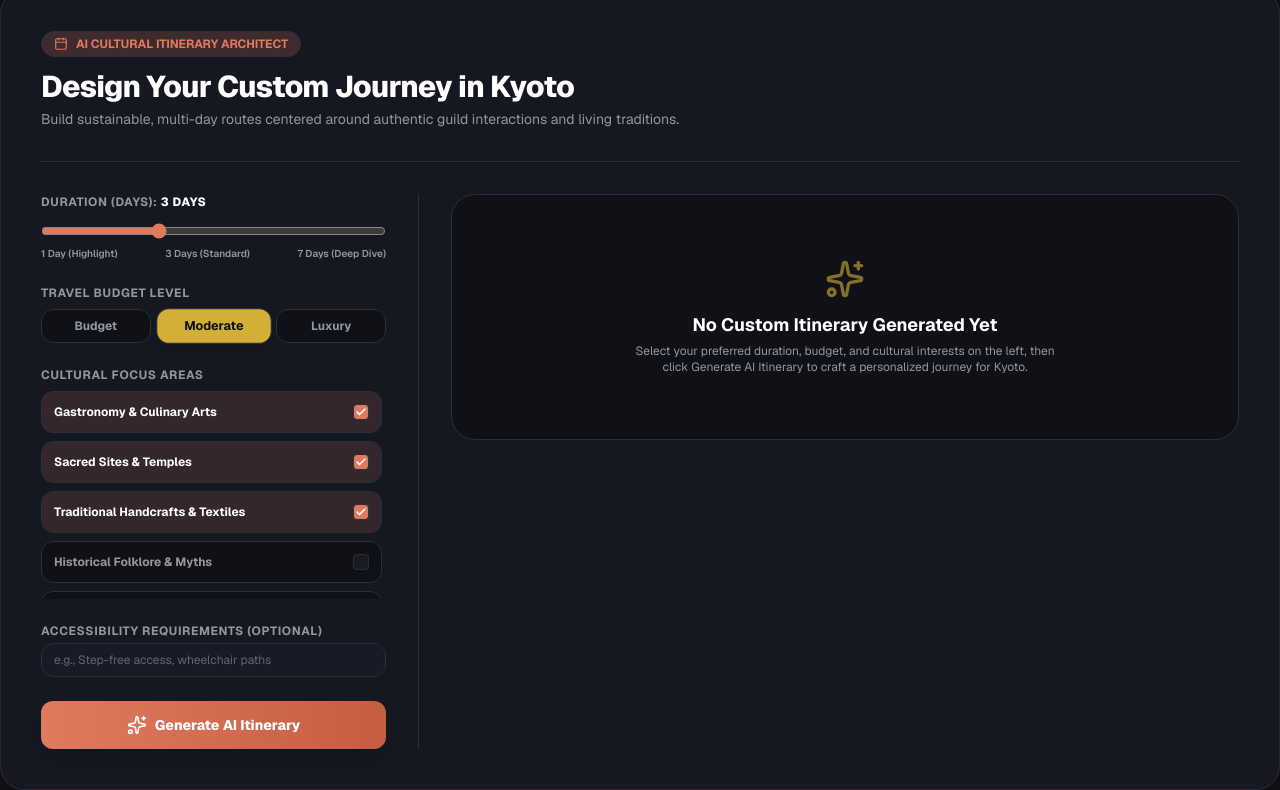
Scenario: ItineraryBuilder – Itinerary Display (mocked API) › renders day 1 and day 2 schedule
Click the button "Generate AI Itinerary" at (214, 725), box 41,701 -> 386,749
(page scrolled)
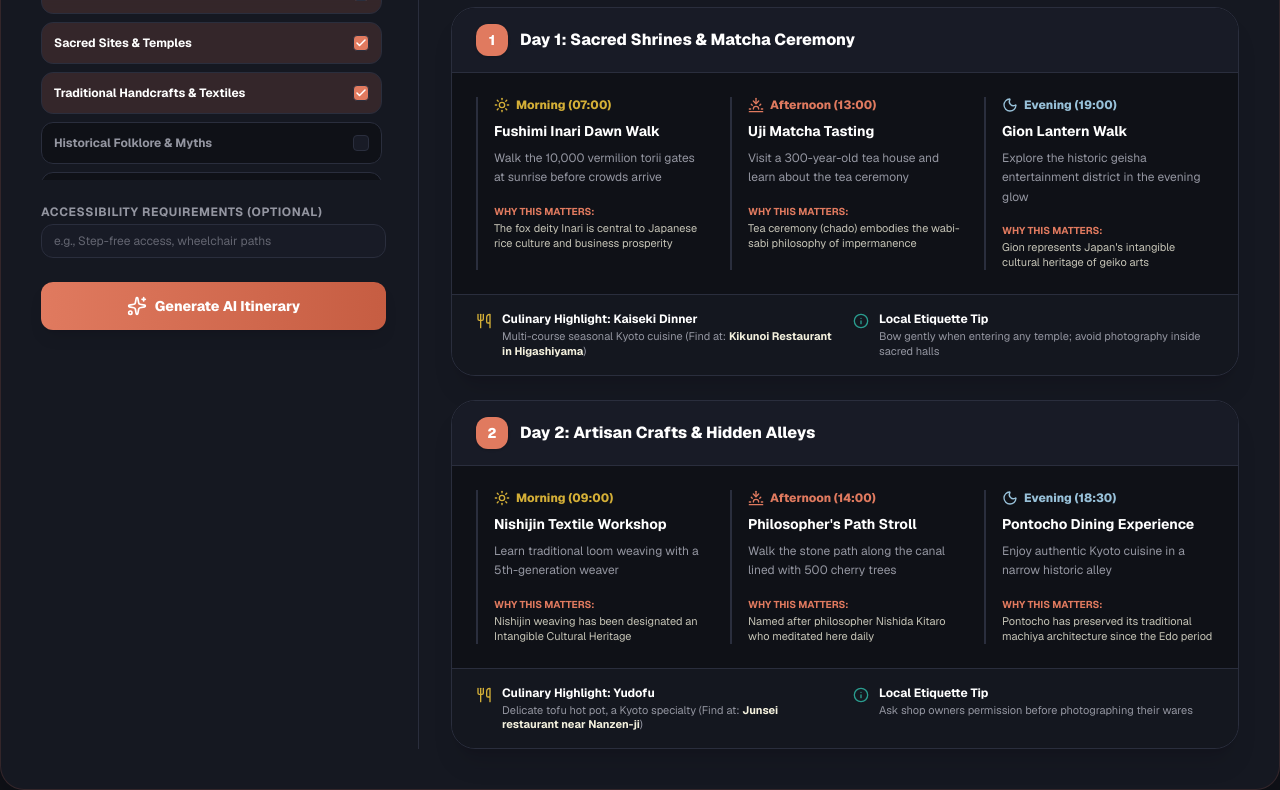
Check: the heading "Day 1: Sacred Shrines & Matcha Ceremony" is shown, box 520,28 -> 855,52
Check: the heading "Day 2: Artisan Crafts & Hidden Alleys" is shown, box 520,421 -> 815,445
